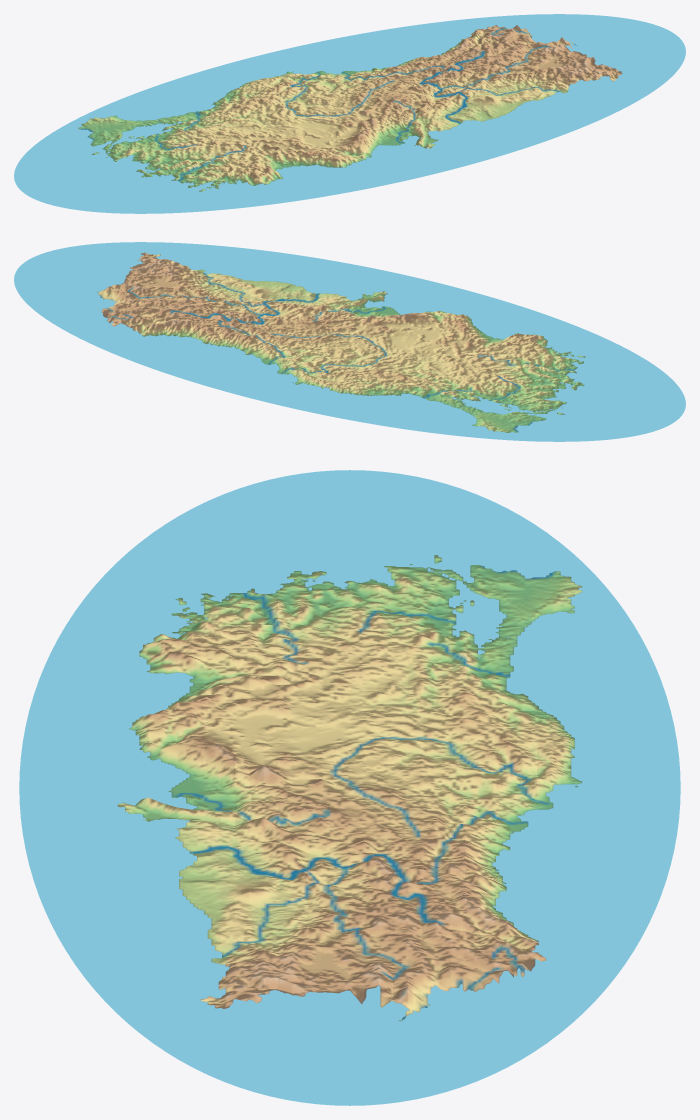
The model's file is TUR-terrain.glb.
The picture shows the model from 3 angles, top to bottom: view 1: azimuth 30°, elevation 25°; view 2: azimuth 150°, elevation 25°; view 3: azimuth 270°, elevation 25°; orthographic projection. The views are drawn at different scales.
Parts seen in each view (by area): view 1: Relevo com hidrografia; view 2: Relevo com hidrografia; view 3: Relevo com hidrografia.
Boxes of the visible parts, bbox=[...] form: Relevo com hidrografia: bbox=[14, 14, 685, 213]; Relevo com hidrografia: bbox=[14, 242, 685, 441]; Relevo com hidrografia: bbox=[19, 470, 680, 1105].
Bounding box in the file's own units: 2.19 × 0.0363 × 0.9646.
2 materials, 1 textured.
